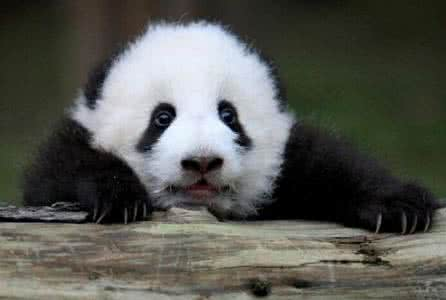panda: (12, 6, 442, 239)
